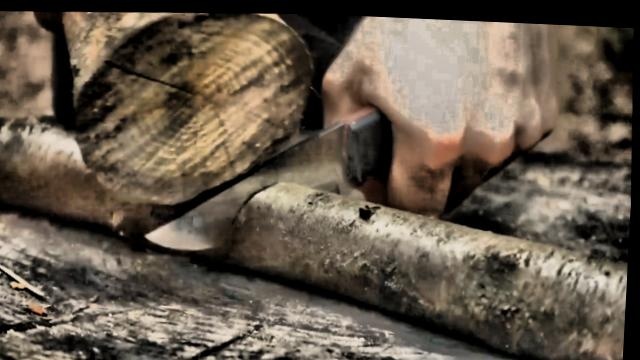knife: (127, 66, 444, 273)
